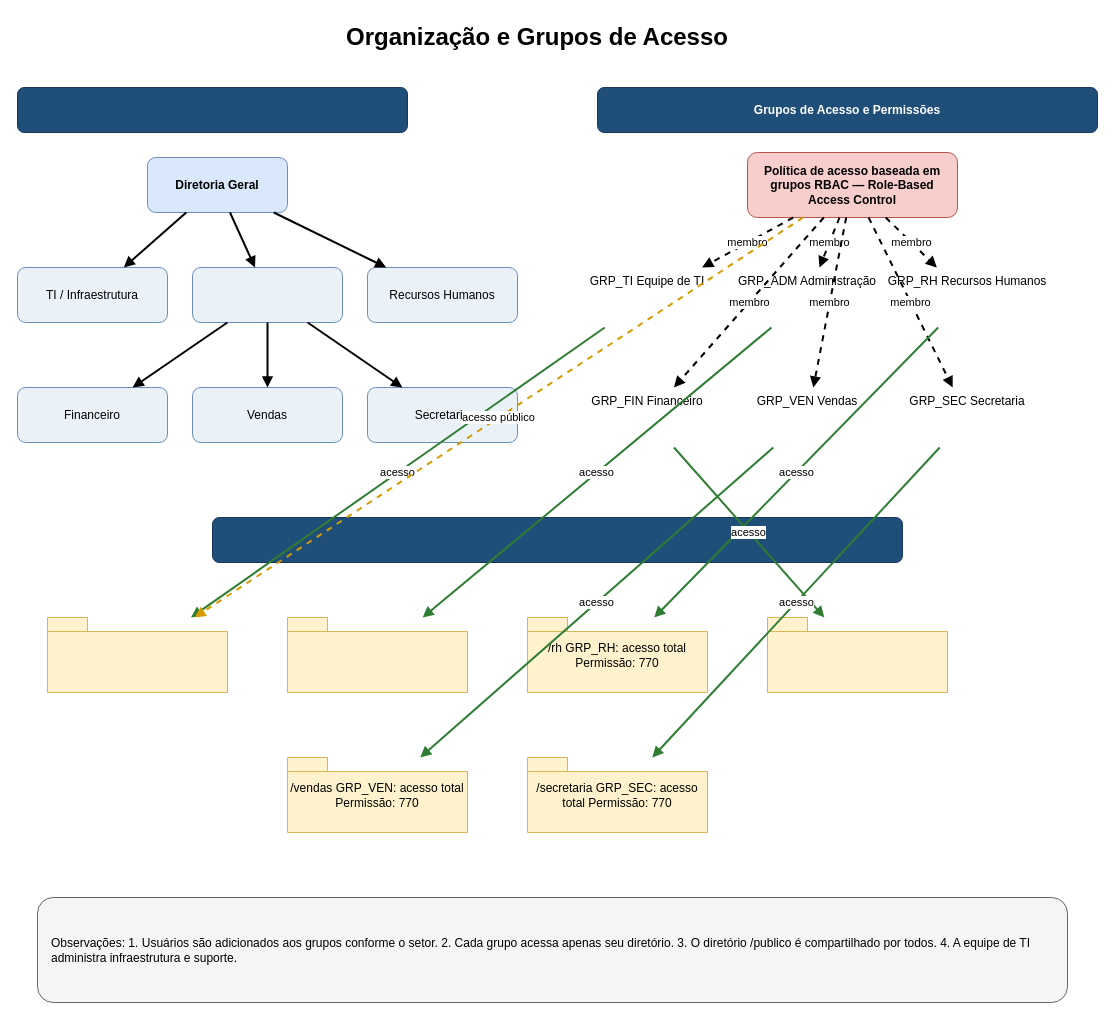
The diagram is 1115 pixels wide and 1020 high, and some of its shapes have lost their labels. The box of each missing label's shape, as (x1, y1, x2, y2) in pixels:
/adm GRP_ADM: acesso total Permissão: 770: (286, 616, 468, 692)
/financeiro GRP_FIN: acesso total Permissão: 770: (766, 616, 948, 692)
/publico Todos: leitura e escrita Permissão: 777: (46, 616, 228, 692)
Administração: (192, 266, 342, 322)
Organograma da Organização: (16, 86, 408, 132)
Recursos / Diretórios do Servidor: (212, 516, 902, 562)
